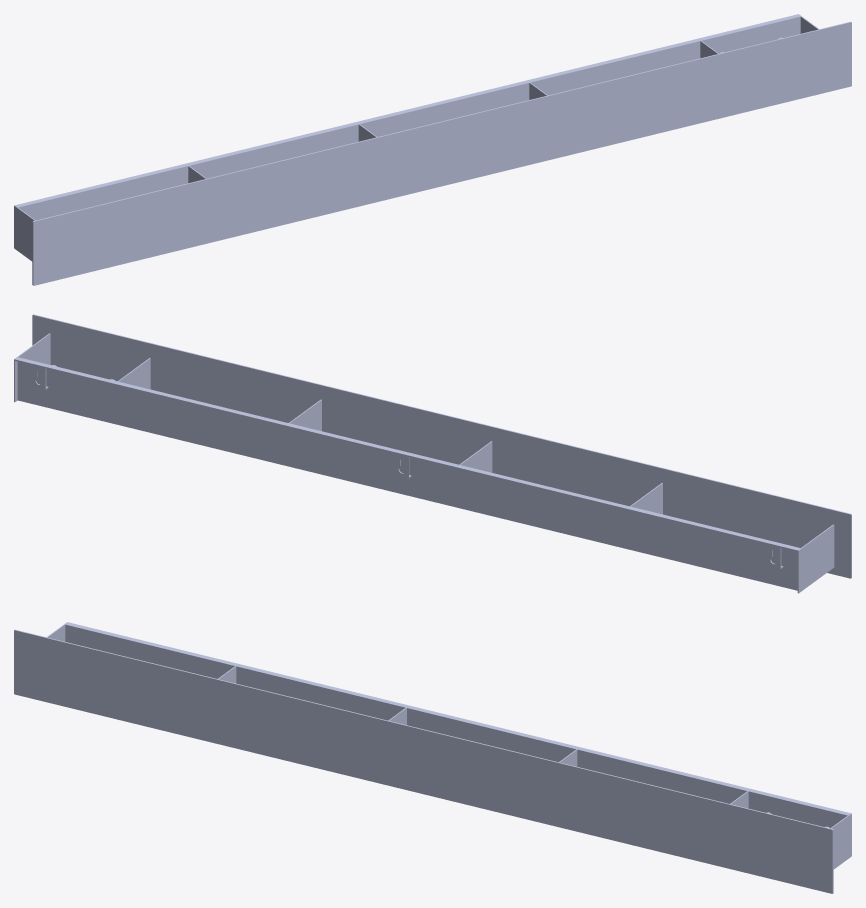
The model's file is skyline-patron.852fe8cd12.glb.
3 views of the same model, one above another, from view 1: azimuth 30°, elevation 25°; view 2: azimuth 150°, elevation 25°; view 3: azimuth 330°, elevation 25° (orthographic).
Parts seen in each view (by area): view 1: NAUO1; view 2: NAUO1; view 3: NAUO1.
Part boxes in pixels (bbox=[...]): NAUO1: bbox=[14, 14, 851, 285]; NAUO1: bbox=[14, 314, 851, 593]; NAUO1: bbox=[14, 622, 851, 893].
Bounding box in the file's own units: 1.2 × 0.0899 × 0.092.
